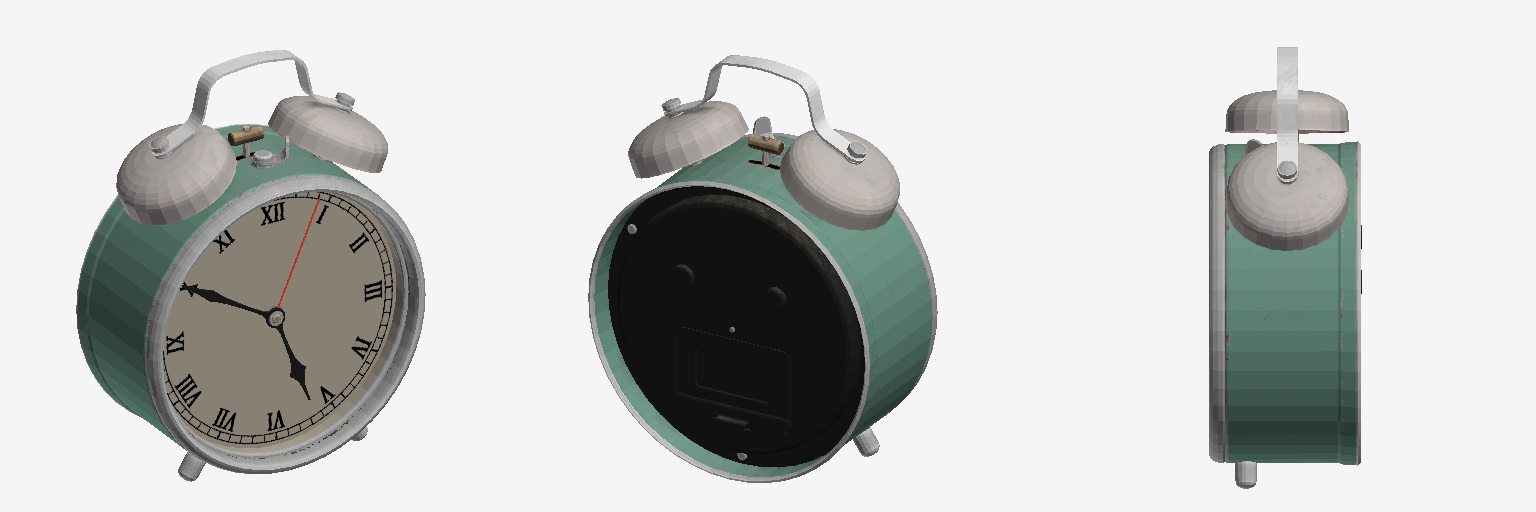
The picture shows the model from 3 angles: view 1: azimuth 30°, elevation 25°; view 2: azimuth 150°, elevation 25°; view 3: azimuth 270°, elevation 25°; orthographic projection.
Parts seen in each view (by area): view 1: alarm_clock_01_Cylinder.030, alarm_clock_01_hour_hand_Plane.012, alarm_clock_01_minute_hand_Plane.013; view 2: alarm_clock_01_Cylinder.030; view 3: alarm_clock_01_Cylinder.030.
Part boxes in pixels (x1,y1,x2,y2): alarm_clock_01_Cylinder.030: (76, 50, 425, 481); alarm_clock_01_hour_hand_Plane.012: (266, 308, 310, 399); alarm_clock_01_minute_hand_Plane.013: (182, 285, 280, 324); alarm_clock_01_Cylinder.030: (588, 55, 937, 482); alarm_clock_01_Cylinder.030: (1209, 47, 1361, 488).
Size of the model in its own units: 0.1317 by 0.1742 by 0.0667.
Materials: 2 (1 with a texture image).